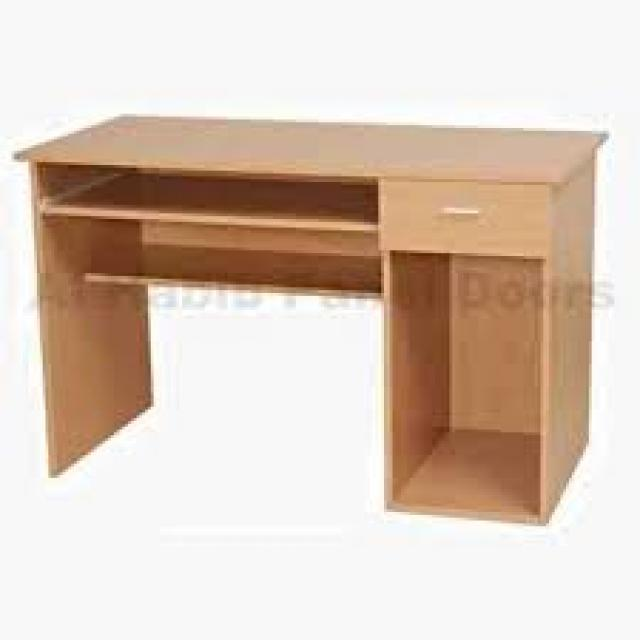mobile-phone: (15, 112, 605, 527)
